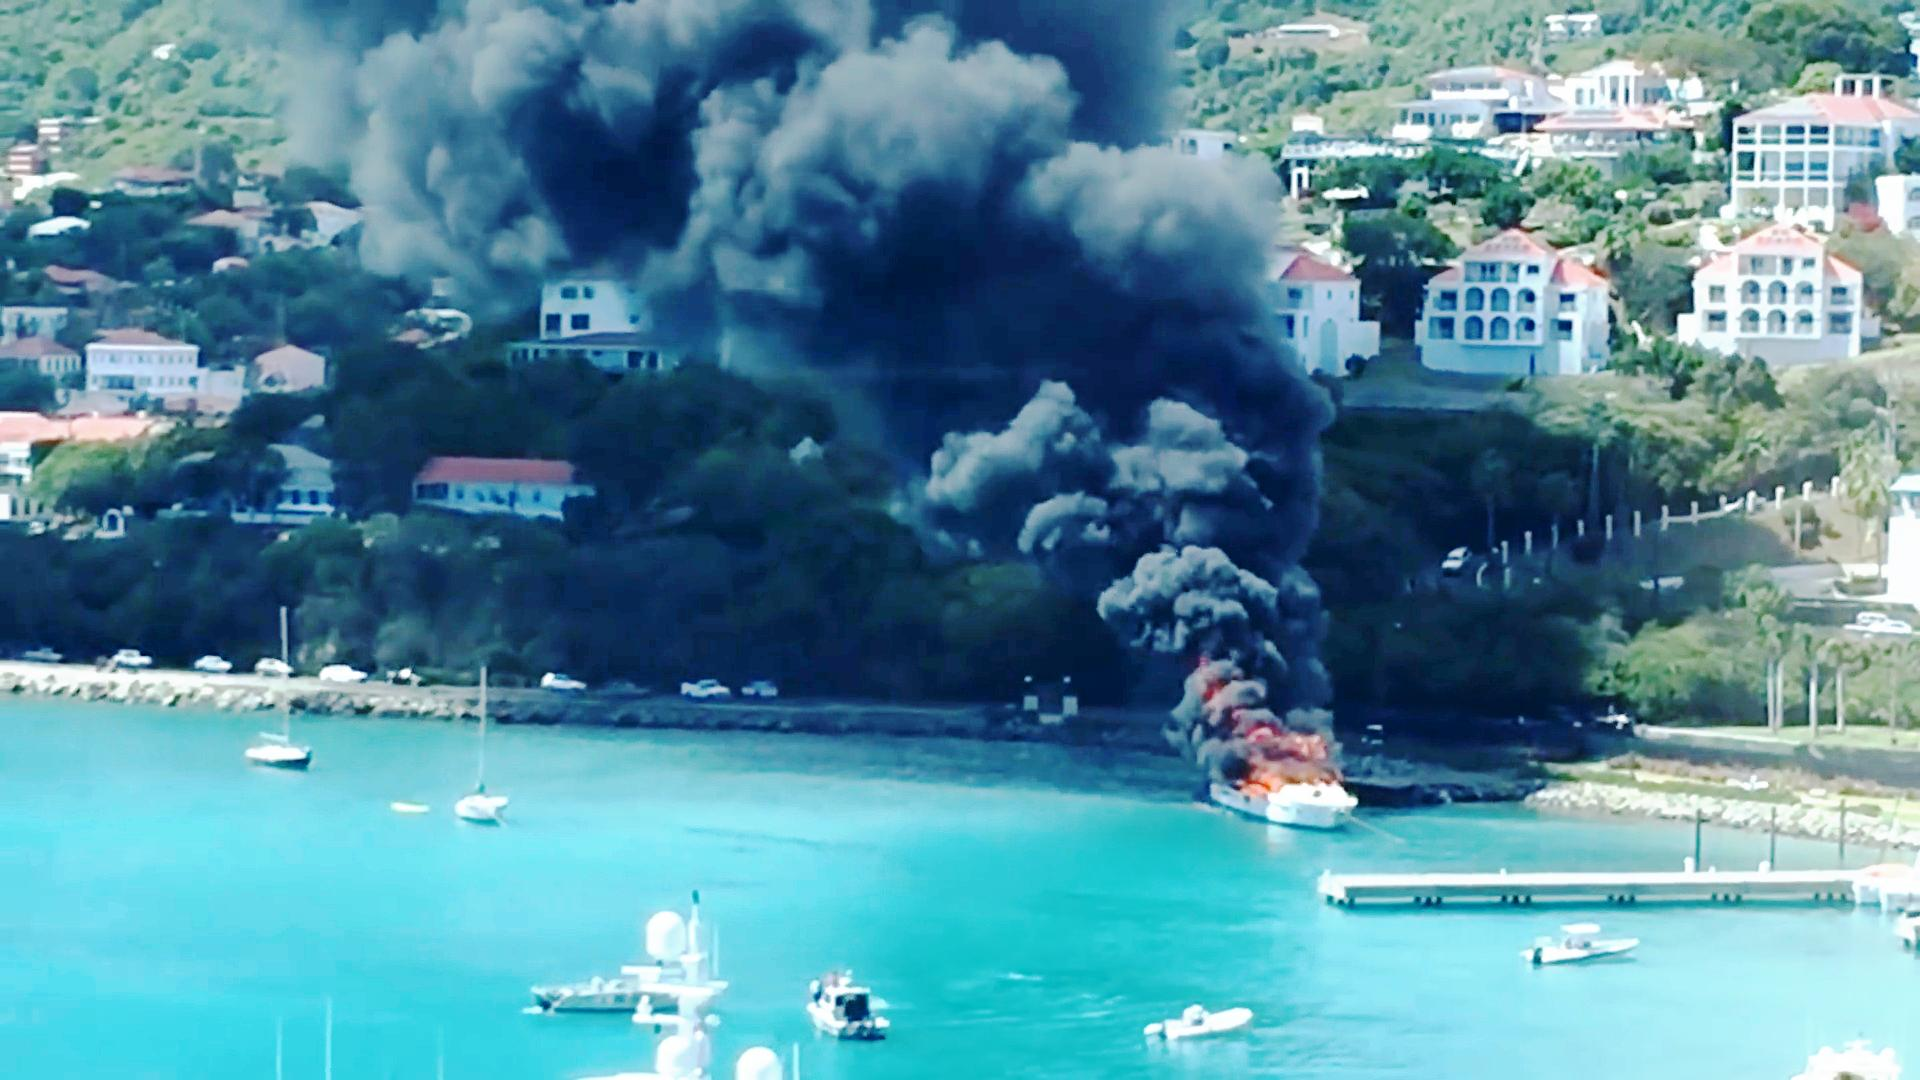smoke: (676, 3, 1233, 513), (388, 0, 1183, 233), (1101, 406, 1321, 696)
